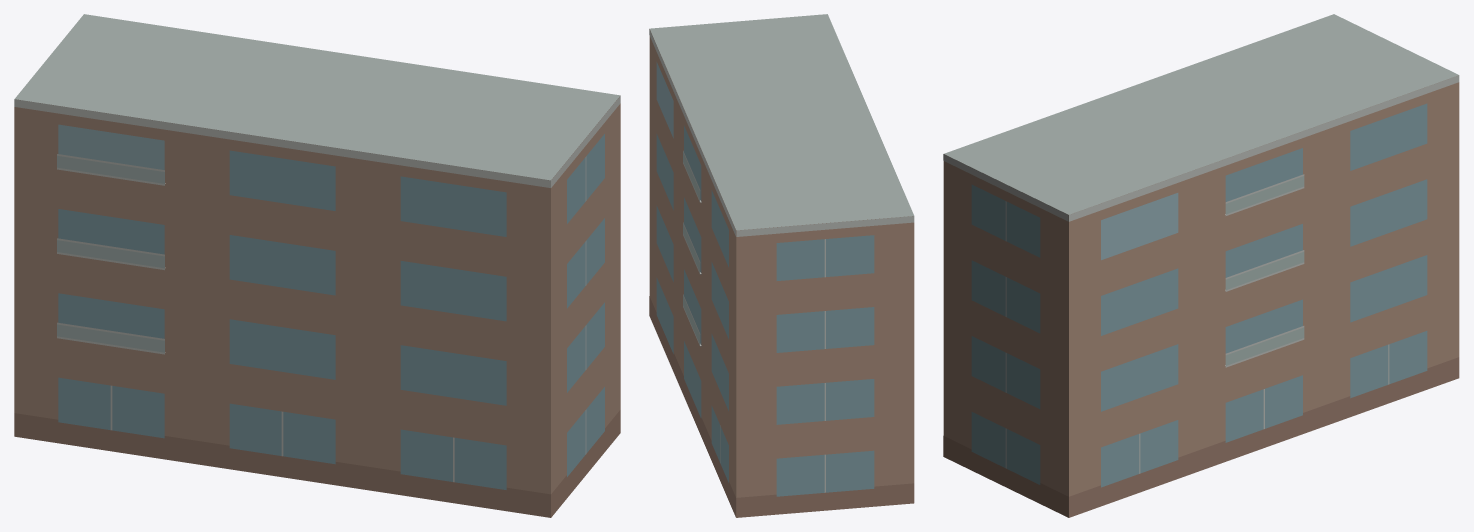
File: survey-upis-32695984.glb
3 views of the same model, side by side, from view 1: azimuth 30°, elevation 25°; view 2: azimuth 150°, elevation 25°; view 3: azimuth 270°, elevation 25° (orthographic). The views are drawn at different scales.
Visible parts, largest first — view 1: survey-upis-32695984.tmp; view 2: survey-upis-32695984.tmp; view 3: survey-upis-32695984.tmp.
Part boxes in pixels (bbox=[...]): survey-upis-32695984.tmp: bbox=[14, 14, 620, 517]; survey-upis-32695984.tmp: bbox=[649, 14, 914, 517]; survey-upis-32695984.tmp: bbox=[943, 14, 1459, 517].
Size of the model in its own units: 15.08 by 10.6 by 16.36.
